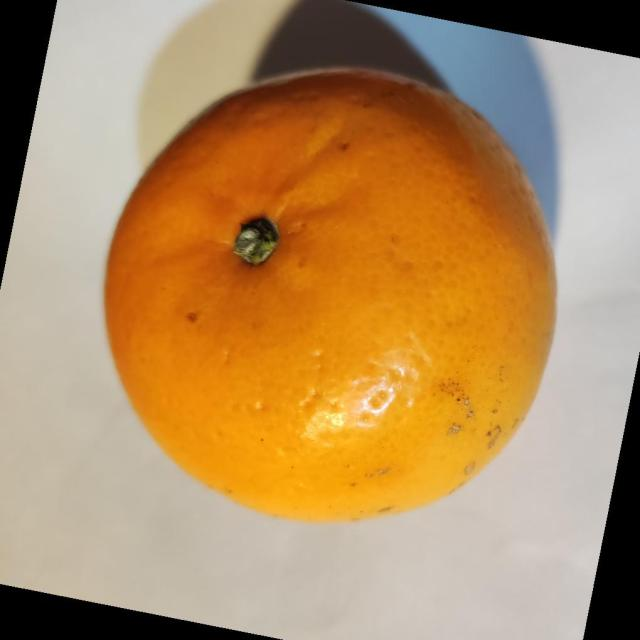fresh orange: (101, 66, 558, 523)
